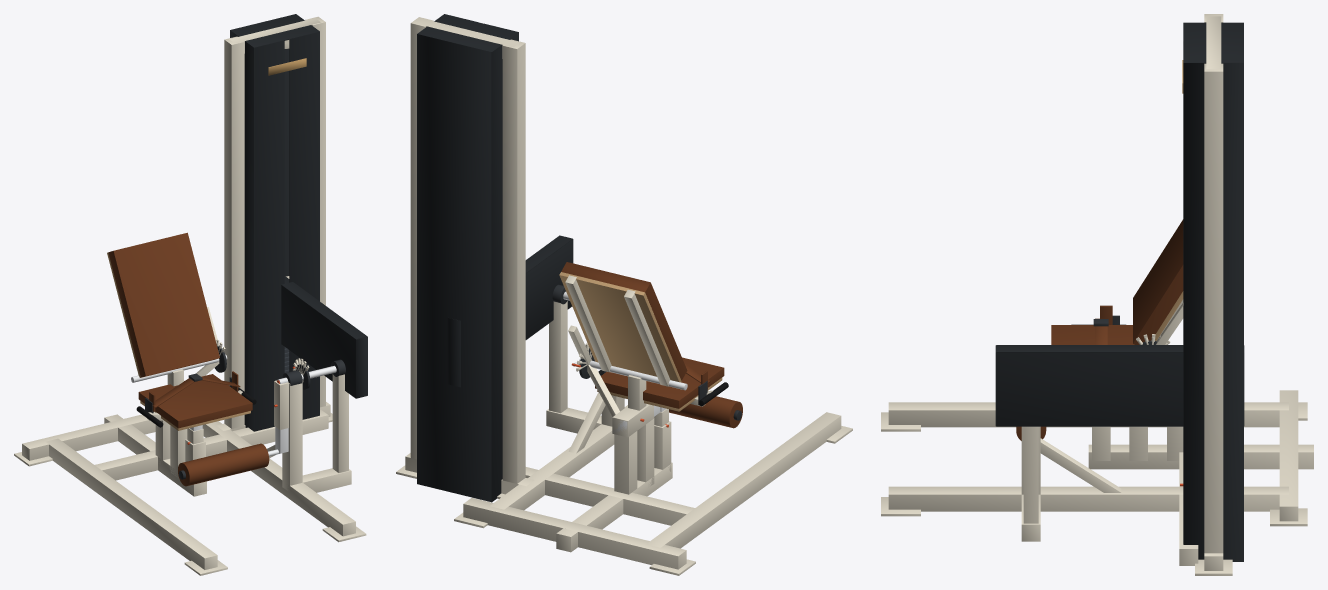
3 views of the same model, side by side, from view 1: azimuth 30°, elevation 25°; view 2: azimuth 150°, elevation 25°; view 3: azimuth 270°, elevation 25° (orthographic). The views are drawn at different scales.
Parts seen in each view (by area): view 1: shroud.003, leather.001, shroud.004, cframe.012, cframe.004, shroud, shroud.008, leather, cframe.006, cframe.008, leather.006, cframe.001 (+13 smaller); view 2: shroud.002, cframe.012, shroud, cframe.004, wood.001, cframe.001, cframe.013, cframe.008, cframe.006, shroud.008, leather, cframe (+15 smaller); view 3: shroud.001, shroud.009, cframe.013, cframe.006, cframe.004, leather.001, cframe, cframe.001, shroud.005, cframe.047, shroud.011, leather (+7 smaller).
Part boxes in pixels (box(x1,y1,x2,y2)): shroud.003: box(254, 40, 284, 431); leather.001: box(108, 232, 219, 377); shroud.004: box(289, 31, 319, 419); cframe.012: box(224, 36, 244, 428); cframe.004: box(45, 438, 217, 569); shroud: box(230, 30, 254, 431); shroud.008: box(281, 285, 355, 397); leather: box(138, 374, 252, 428); cframe.006: box(202, 421, 355, 536); cframe.008: box(95, 410, 328, 480); leather.006: box(178, 443, 269, 486); cframe.001: box(22, 414, 155, 460); shroud.002: box(417, 34, 491, 502); cframe.012: box(502, 39, 525, 483); shroud: box(491, 32, 518, 501); cframe.004: box(646, 412, 841, 548); wood.001: box(559, 272, 681, 382); cframe.001: box(463, 498, 686, 569); cframe.013: box(410, 17, 433, 459); cframe.008: box(525, 467, 694, 525); cframe.006: box(490, 405, 627, 510); shroud.008: box(525, 239, 572, 339); leather: box(595, 357, 724, 408); cframe: box(556, 462, 672, 552); shroud.001: box(1183, 62, 1243, 561); shroud.009: box(996, 352, 1183, 426); cframe.013: box(1204, 63, 1223, 553); cframe.006: box(888, 486, 1288, 511); cframe.004: box(888, 402, 1288, 427); leather.001: box(1133, 219, 1183, 344); cframe: box(1088, 444, 1313, 469); cframe.001: box(1279, 390, 1298, 521); shroud.005: box(1183, 23, 1243, 62); cframe.047: box(1023, 426, 1038, 523); shroud.011: box(996, 345, 1183, 352); leather: box(1051, 325, 1134, 344).
Size of the model in its own units: 1.62 by 2.2 by 1.73.
